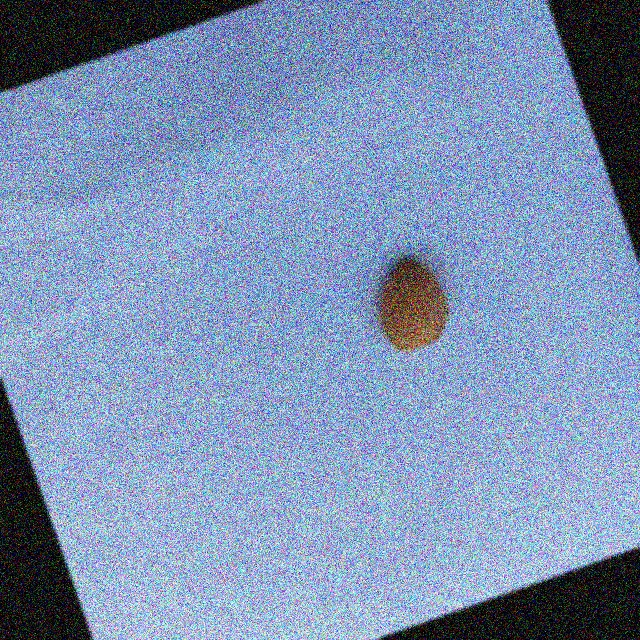grade2: (356, 246, 463, 363)
